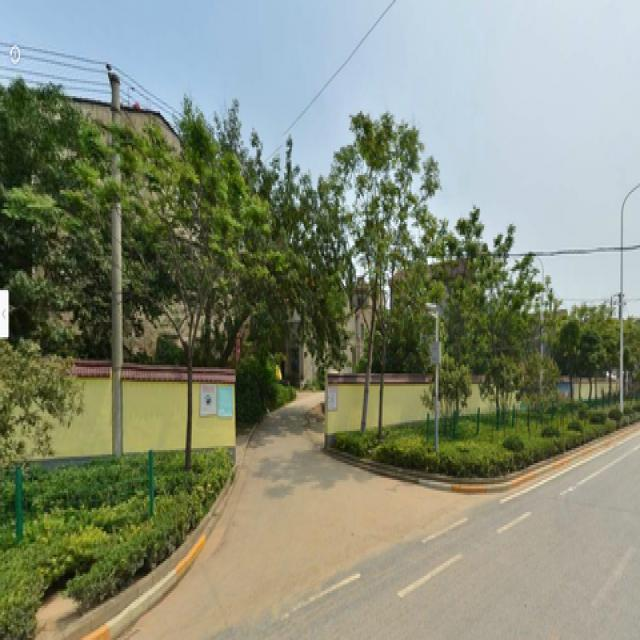koel: (134, 158, 218, 459), (362, 143, 394, 420), (458, 246, 511, 356)
